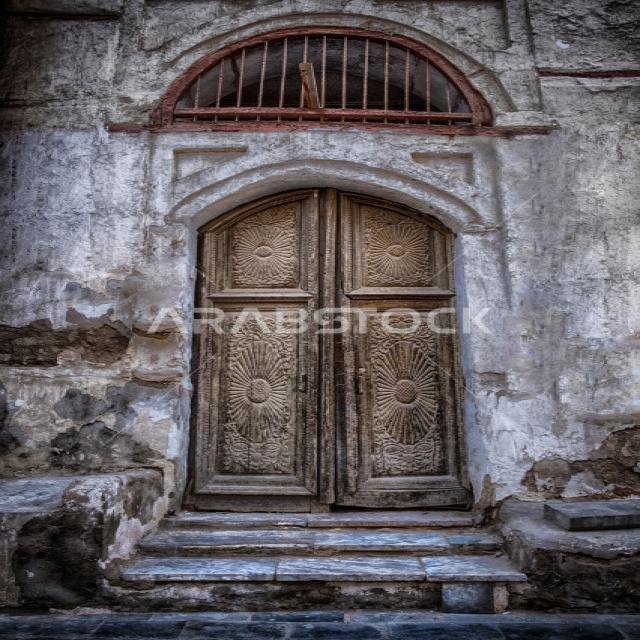Staircase: (151, 512, 528, 616)
door: (206, 198, 494, 507)
